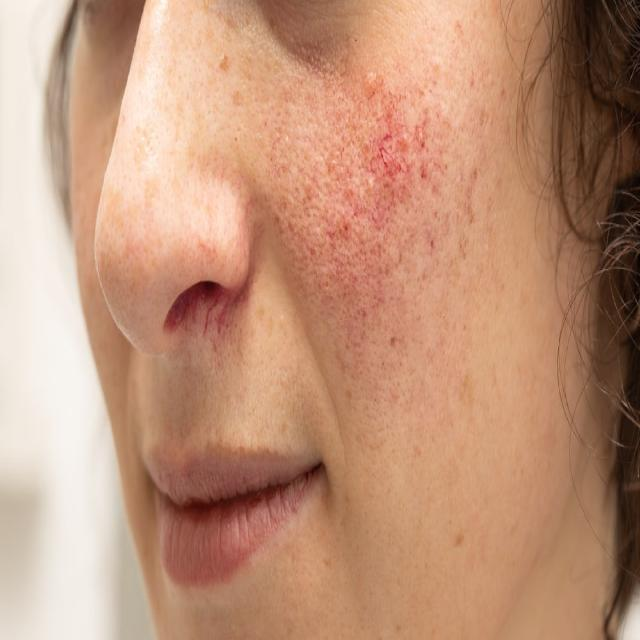Rosacea: (300, 126, 433, 303)
